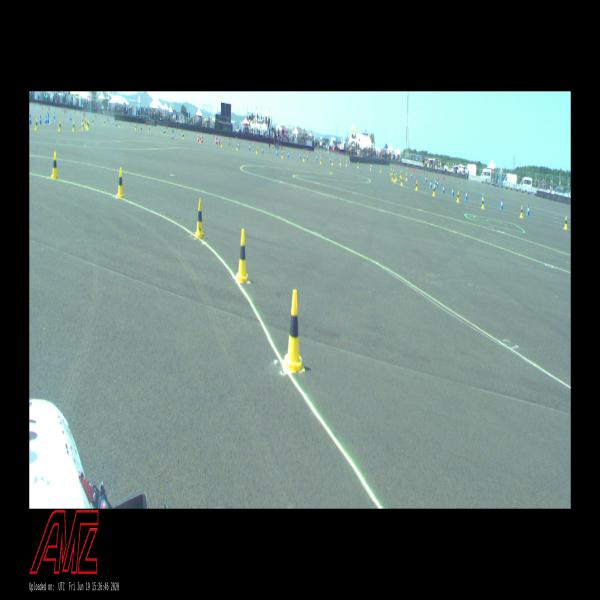blue_cone: (465, 191, 468, 200), (501, 199, 503, 210), (527, 205, 529, 215), (452, 187, 454, 196), (482, 195, 484, 204), (430, 180, 432, 188), (434, 182, 436, 190), (45, 116, 47, 123), (425, 176, 427, 182), (410, 172, 412, 178), (140, 124, 142, 130), (238, 143, 240, 149), (435, 179, 437, 185), (262, 148, 264, 154), (276, 150, 278, 156), (30, 115, 31, 124), (40, 115, 41, 124), (443, 185, 444, 193), (48, 115, 49, 123), (249, 144, 250, 151), (437, 180, 438, 187), (54, 112, 55, 119), (70, 114, 71, 120), (92, 118, 93, 124), (217, 139, 218, 145), (288, 151, 289, 157), (307, 154, 308, 160), (163, 128, 164, 134), (116, 121, 117, 126), (393, 168, 394, 173), (330, 157, 331, 162), (349, 160, 350, 165), (316, 156, 317, 160), (300, 154, 300, 159)
large_orange_cone: (201, 133, 203, 143), (215, 135, 217, 144), (198, 132, 199, 142), (219, 135, 220, 144)
yellow_cone: (282, 290, 305, 371), (235, 230, 249, 283), (195, 199, 204, 237), (117, 168, 124, 198), (51, 152, 58, 179), (564, 217, 568, 228), (520, 206, 523, 217), (36, 119, 38, 130), (457, 191, 459, 202), (59, 120, 61, 130), (482, 198, 484, 208), (72, 122, 74, 131), (433, 187, 435, 196), (416, 182, 418, 190), (256, 147, 258, 154), (221, 140, 223, 147), (395, 173, 397, 180), (390, 169, 392, 175), (148, 126, 150, 132), (135, 124, 137, 130), (370, 165, 372, 170), (401, 177, 402, 186), (83, 122, 84, 130), (88, 122, 89, 130), (406, 173, 407, 180), (282, 151, 283, 158), (332, 158, 333, 165), (237, 143, 238, 150), (394, 175, 395, 182), (104, 119, 105, 126), (119, 121, 120, 128), (392, 173, 393, 180), (93, 118, 94, 125), (346, 160, 347, 166), (304, 155, 305, 161), (165, 130, 166, 136), (400, 172, 401, 178), (82, 118, 83, 124), (85, 120, 86, 126), (183, 133, 184, 139), (200, 136, 201, 142), (320, 158, 321, 164), (340, 160, 341, 165), (380, 167, 381, 172), (358, 163, 358, 168)
